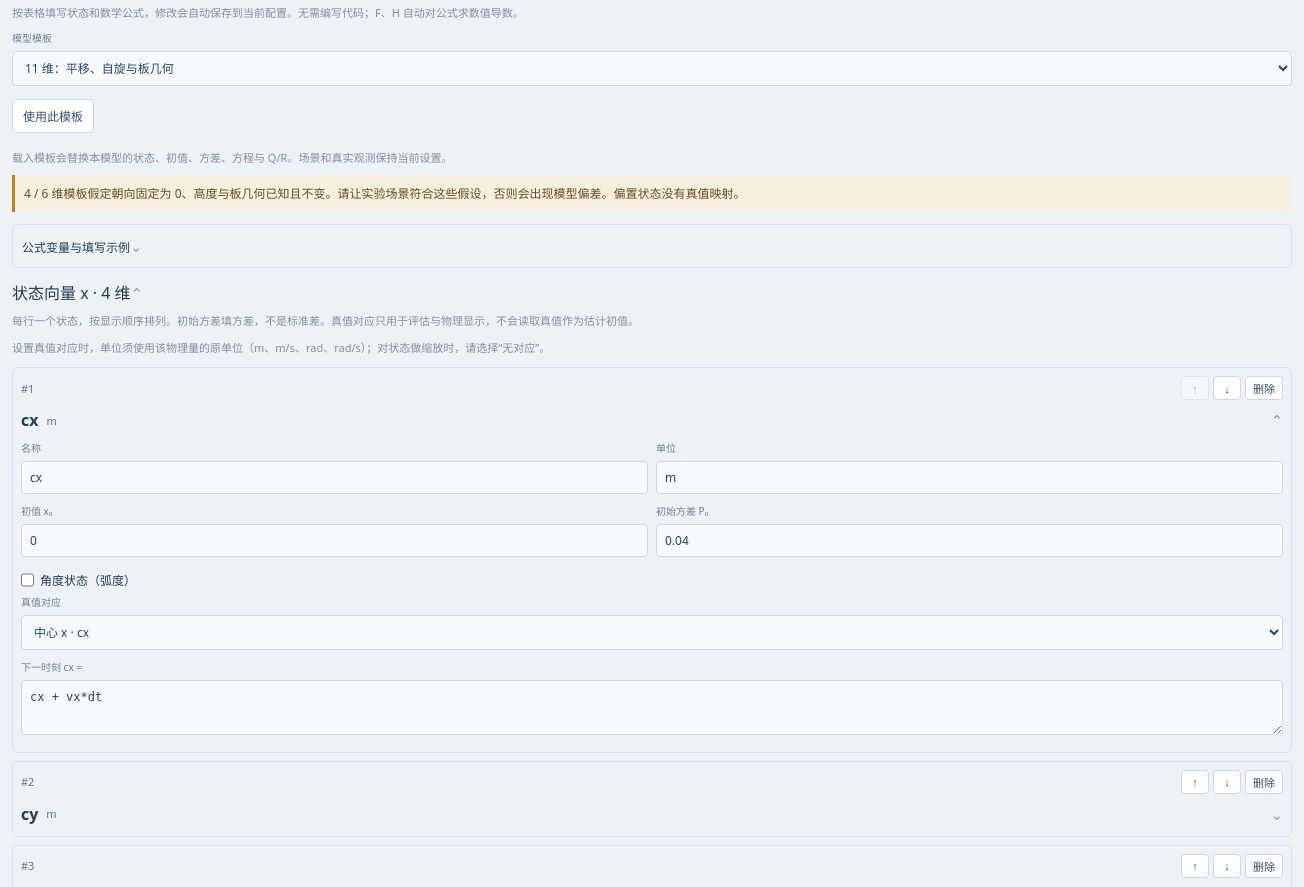
Test: formula model form › shows incomplete edits and blocks validation instead of retaining old valid values
The width and height of the screenshot is (1304, 887).
Replace the text in the field named "状态 1 名称" with "dt" at (334,478), box [21,461,648,494]
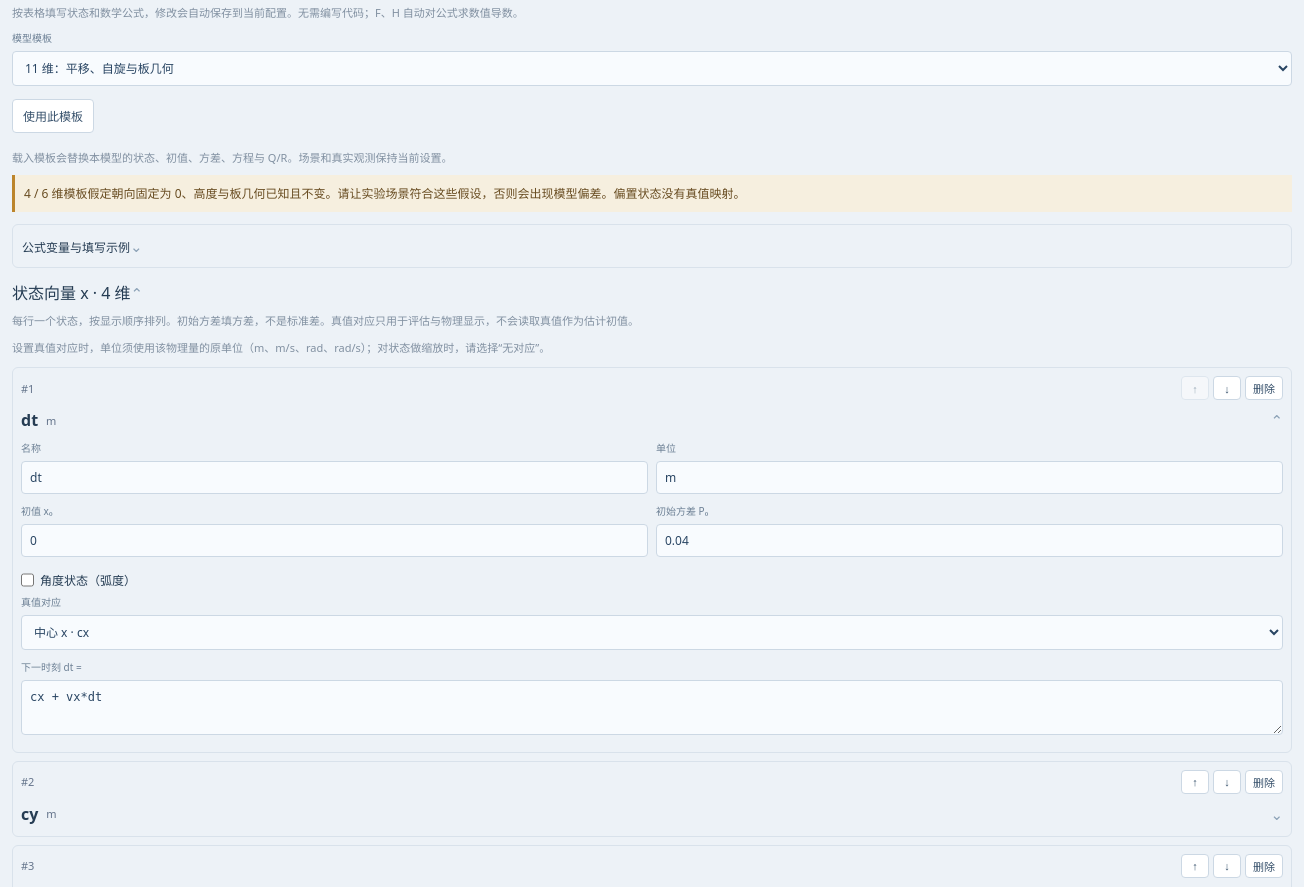
Clear the text box named "状态 1 下一时刻公式" at (652,708), box [21,680,1283,735]
(page scrolled)
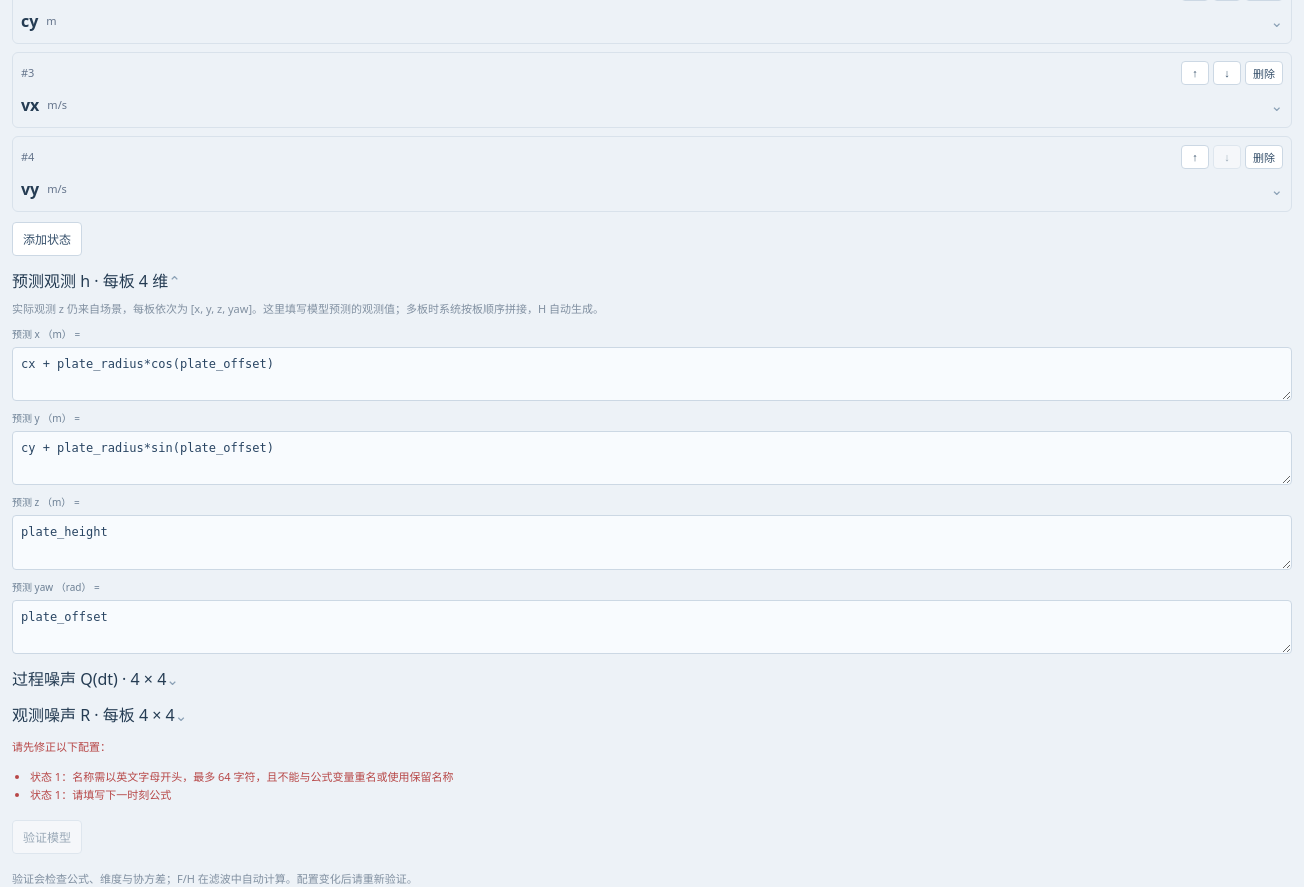
Expected: the message shows "不能与公式变量重名", [30,769,454,784]
Expected: the button "验证模型" is disabled, [12,820,82,854]
Expected: the message shows "请填写下一时刻公式", [30,787,171,802]
